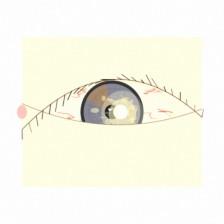corneal_ulcer: (98, 94, 147, 134)
